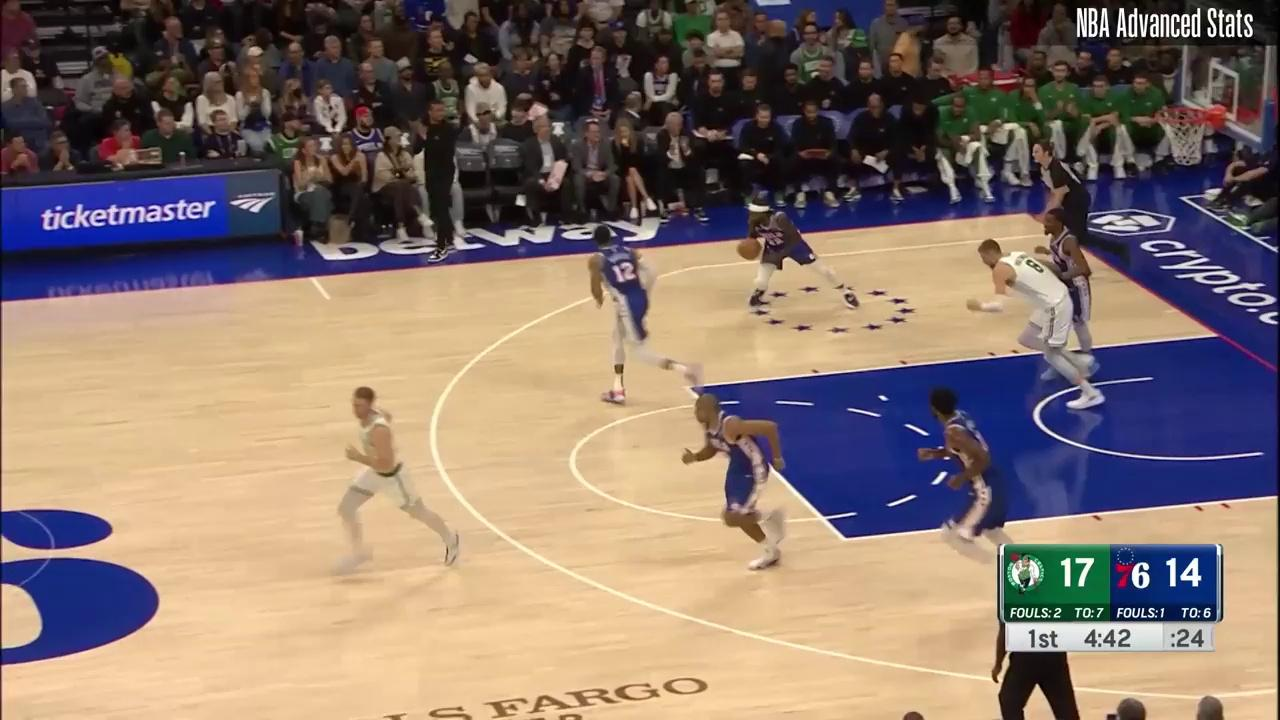b_sx: (1017, 206, 1036, 223)
free_adx: (837, 533, 856, 548)
free_asx: (681, 378, 699, 397)
free_bsx: (1211, 329, 1227, 342)
mid_sx: (321, 292, 336, 305)
referee: (1030, 142, 1124, 261)
team: (966, 241, 1104, 405), (338, 386, 459, 572)
team1: (587, 230, 697, 403), (689, 396, 787, 571), (923, 387, 1013, 553), (740, 201, 858, 315), (1039, 210, 1096, 357)
timer: (1079, 624, 1140, 650)
